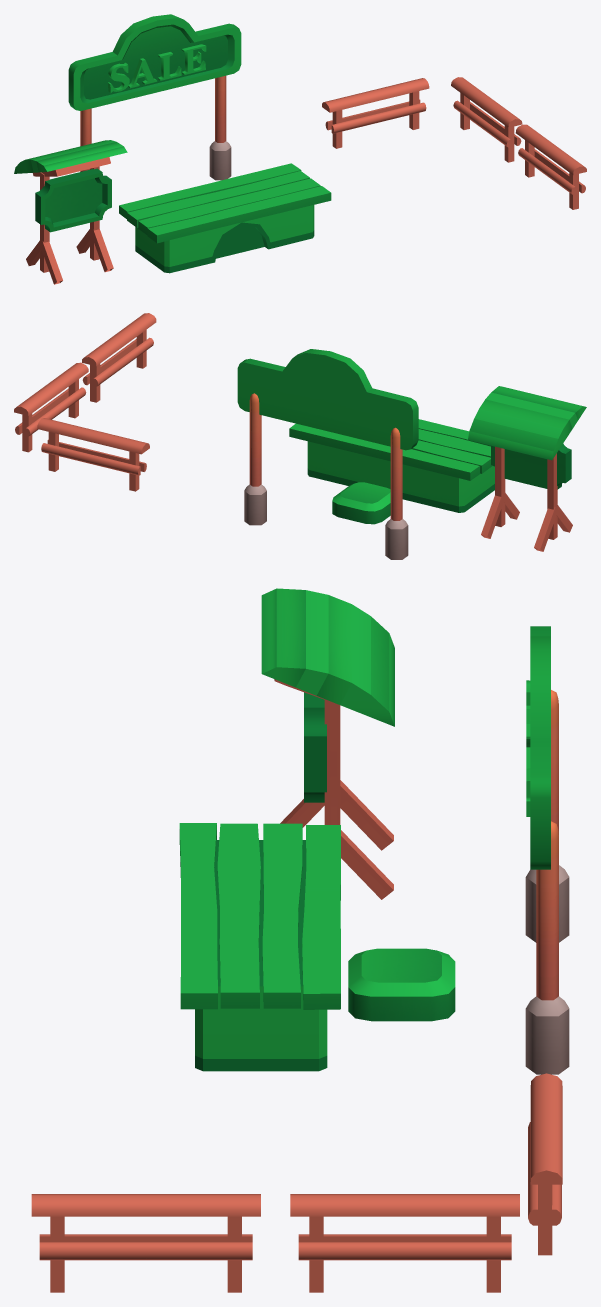
The model's file is Map Unity  (6).fbx.
The picture shows the model from 3 angles, top to bottom: view 1: azimuth 30°, elevation 25°; view 2: azimuth 150°, elevation 25°; view 3: azimuth 270°, elevation 25°; orthographic projection. The views are drawn at different scales.
Parts seen in each view (by area): view 1: Cube.027, Cube.030, Cube.028, Hayat.005, Hayat.004, Hayat.001; view 2: Cube.030, Cube.027, Cube.028, Hayat.005, Hayat.001, Hayat.004, Cube.032; view 3: Cube.027, Cube.028, Cube.030, Hayat.004, Hayat.001, Cube.032, Hayat.005.
Boxes of the visible parts, box(x1,y1,x2,y2) form: Cube.027: box(119, 163, 331, 273); Cube.030: box(68, 14, 241, 180); Cube.028: box(14, 140, 127, 284); Hayat.005: box(322, 78, 429, 148); Hayat.004: box(451, 77, 522, 162); Hayat.001: box(515, 124, 586, 209); Cube.030: box(237, 349, 418, 559); Cube.027: box(289, 419, 494, 512); Cube.028: box(468, 386, 586, 551); Hayat.005: box(37, 418, 149, 491); Hayat.001: box(82, 313, 156, 402); Hayat.004: box(14, 362, 88, 452); Cube.032: box(332, 482, 390, 524); Cube.027: box(179, 823, 340, 1071); Cube.028: box(261, 588, 394, 899); Cube.030: box(525, 626, 569, 1074); Hayat.004: box(290, 1194, 519, 1292); Hayat.001: box(31, 1194, 260, 1292); Cube.032: box(348, 948, 455, 1021); Hayat.005: box(528, 1073, 562, 1255).
Size of the model in its own units: 2.98 by 1.05 by 1.44.
